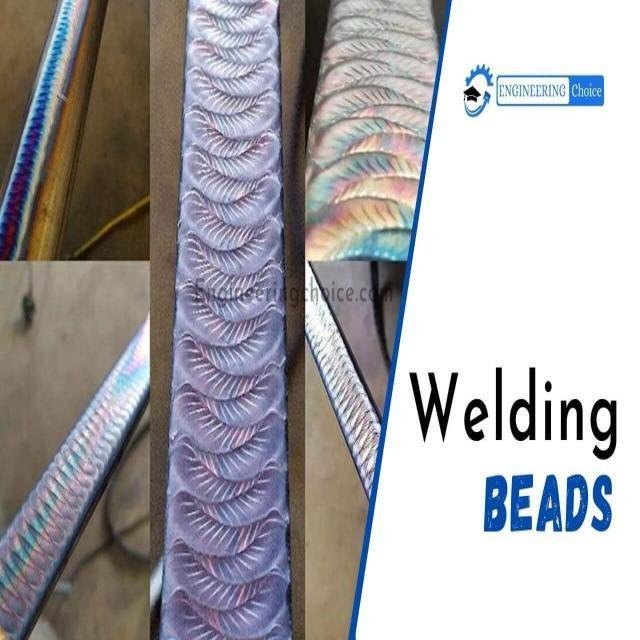Good Welding: (161, 1, 293, 640), (0, 312, 154, 640), (305, 0, 439, 263), (0, 0, 91, 270), (309, 265, 384, 500)
